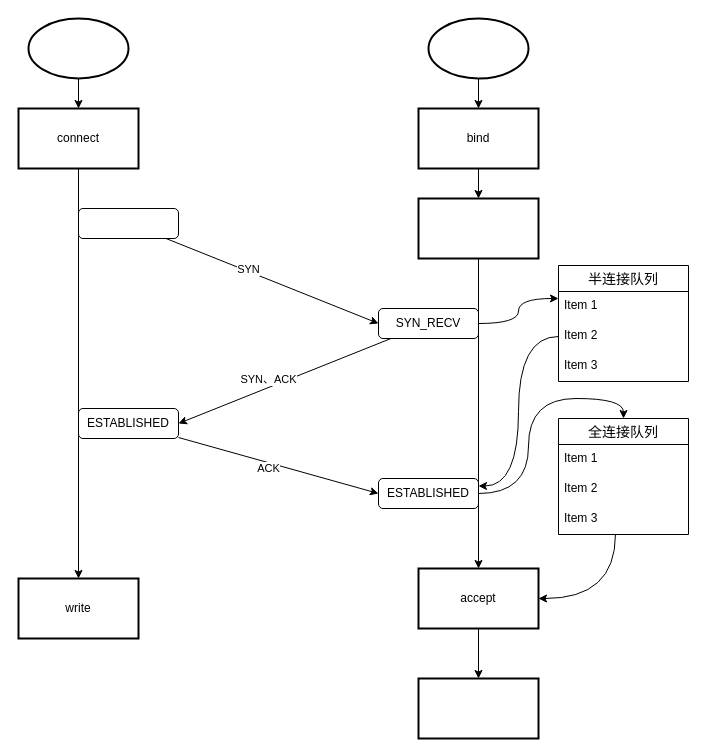
This 706x756 diagram has some shape labels left out. The centre of each missing label's shape, as x and y in pixels:
"client" belongs at point (78, 48).
"listen" belongs at point (478, 228).
"read" belongs at point (478, 708).
"server" belongs at point (478, 48).
"SYN_SENT" belongs at point (128, 223).
